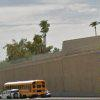Bus: (2, 76, 47, 97)
